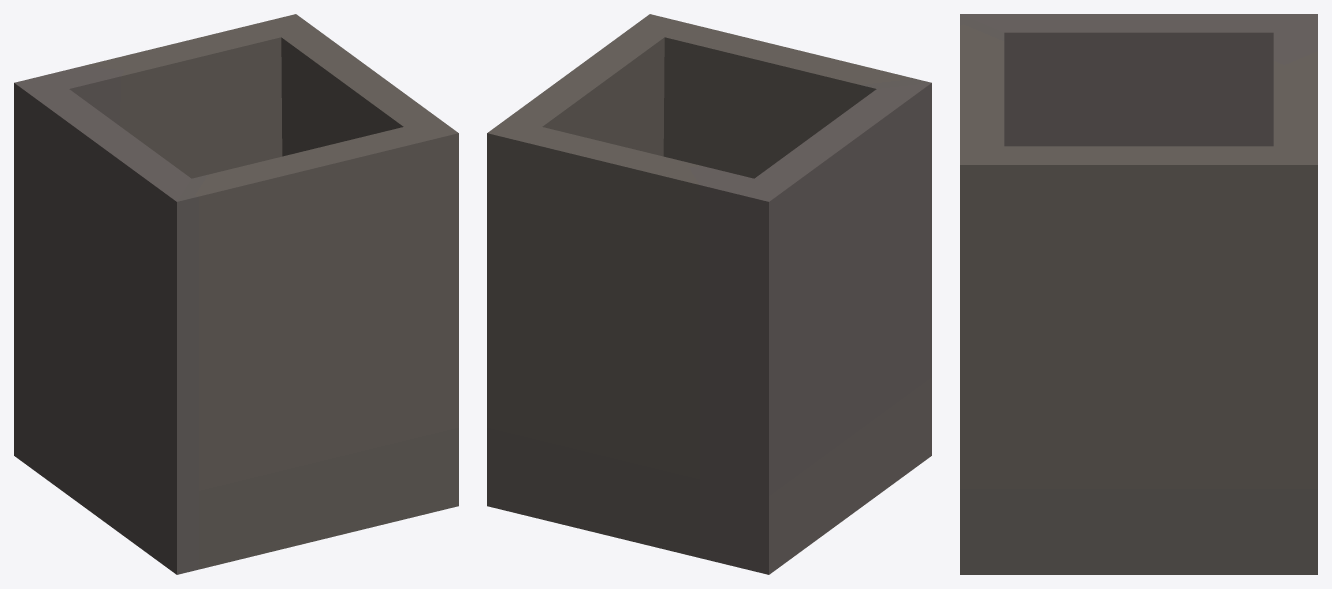
The model's file is Bin.fbx.
3 renders of one model, left to right at view 1: azimuth 30°, elevation 25°; view 2: azimuth 150°, elevation 25°; view 3: azimuth 270°, elevation 25°, orthographic. The views are drawn at different scales.
Visible parts, largest first — view 1: Trash Can; view 2: Trash Can; view 3: Trash Can.
Boxes of the visible parts, x1,y1,x2,y2 form: Trash Can: [14, 14, 458, 574]; Trash Can: [487, 14, 931, 574]; Trash Can: [960, 14, 1317, 574].
Bounding box in the file's own units: 87.25 × 110 × 87.25.
1 material, 1 textured.
